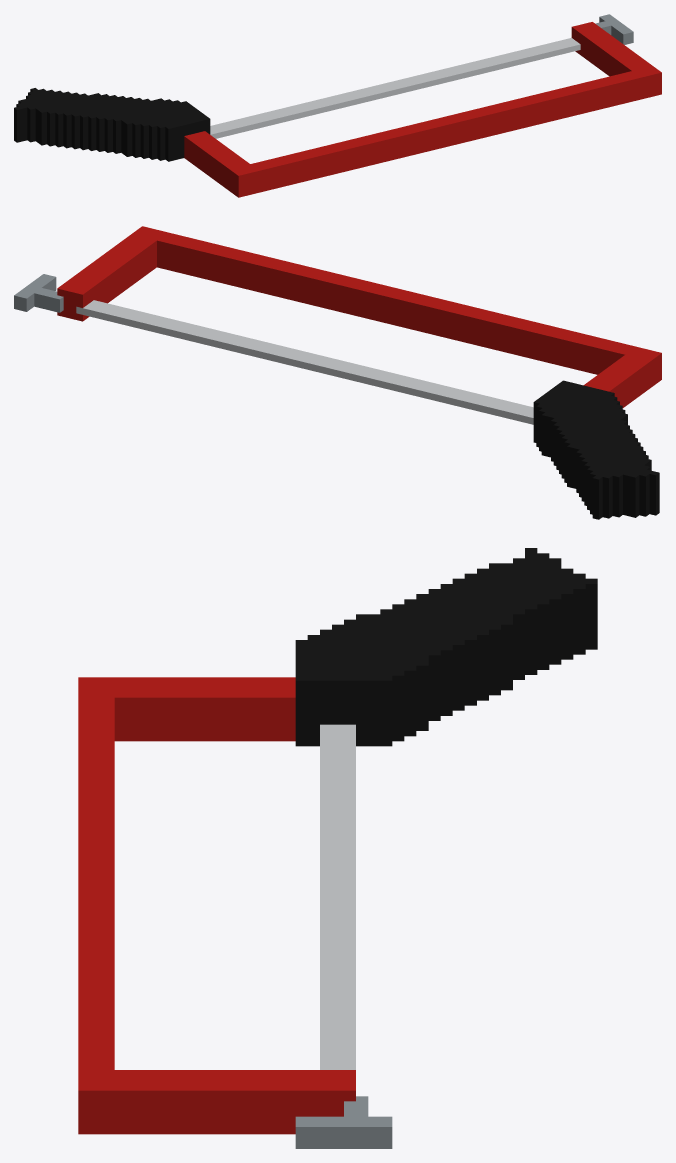
Rendered from hacksaw.glb.
3 renders of one model, top to bottom at view 1: azimuth 30°, elevation 25°; view 2: azimuth 150°, elevation 25°; view 3: azimuth 270°, elevation 25°, orthographic. The views are drawn at different scales.
Visible parts, largest first — view 1: hacksaw:compound; view 2: hacksaw:compound; view 3: hacksaw:compound.
Boxes of the visible parts, x1=… form: hacksaw:compound: x1=14, y1=14, x2=661, y2=197; hacksaw:compound: x1=14, y1=226, x2=661, y2=519; hacksaw:compound: x1=78, y1=548, x2=597, y2=1148.
Size of the model in its own units: 0.428 by 0.024 by 0.172.
